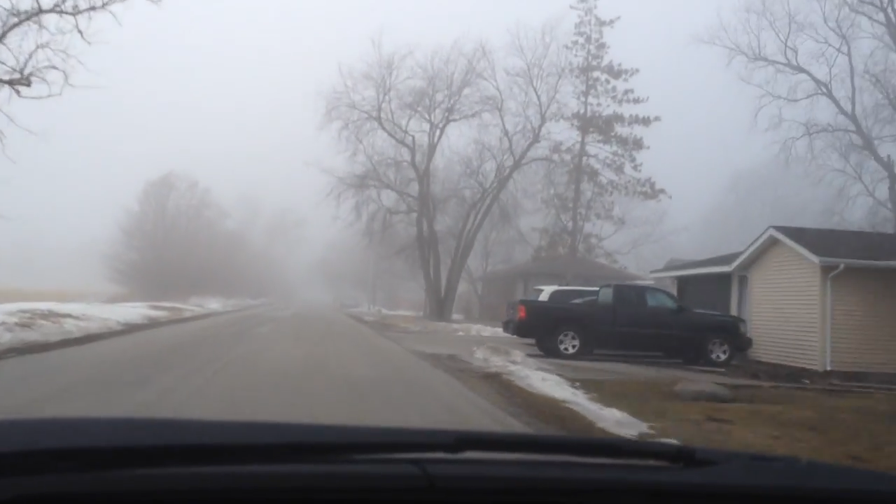car: (501, 280, 754, 362), (529, 283, 674, 346)
